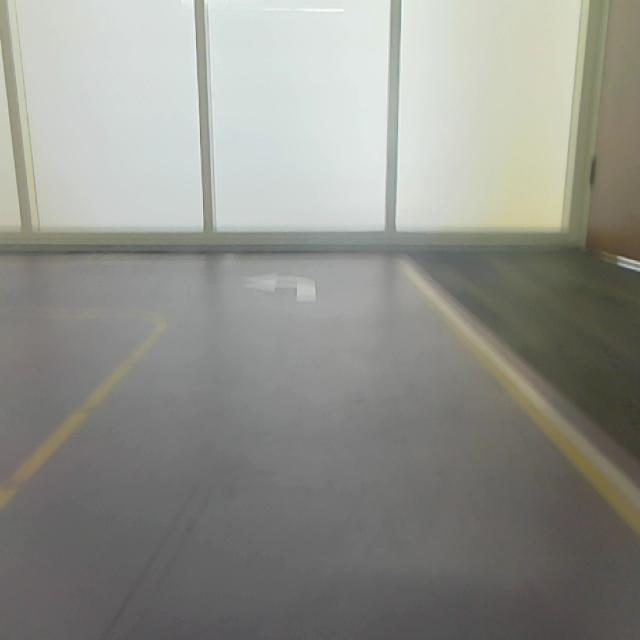left_lane: (0, 327, 163, 515)
right_lane: (403, 263, 640, 533)
